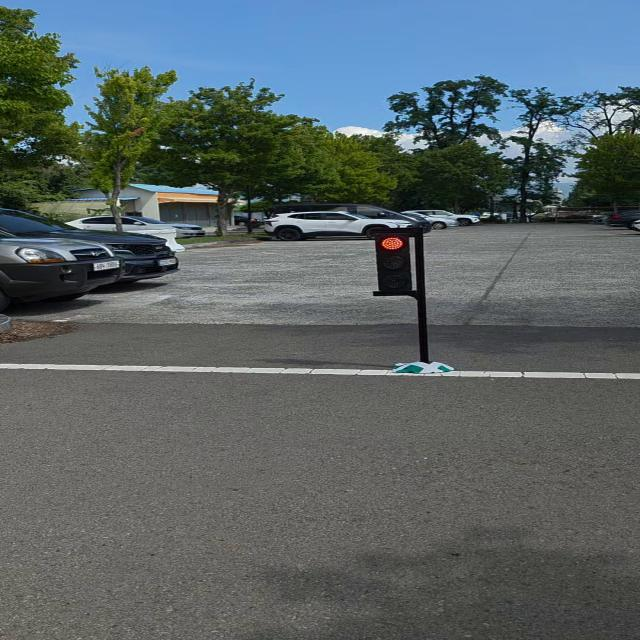red: (372, 229, 421, 299)
